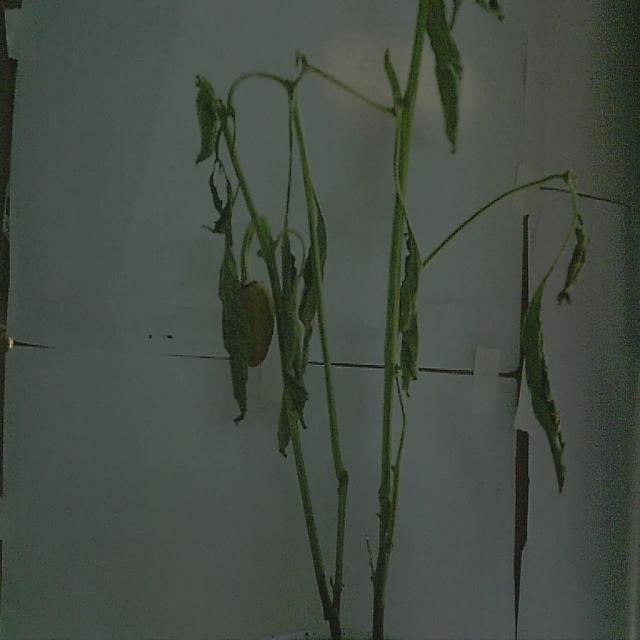Leaf: (520, 278, 567, 498), (217, 222, 250, 423), (422, 0, 462, 152), (273, 278, 306, 426), (296, 196, 326, 346), (396, 232, 420, 394), (192, 73, 222, 165), (558, 216, 589, 305), (276, 397, 292, 458)
